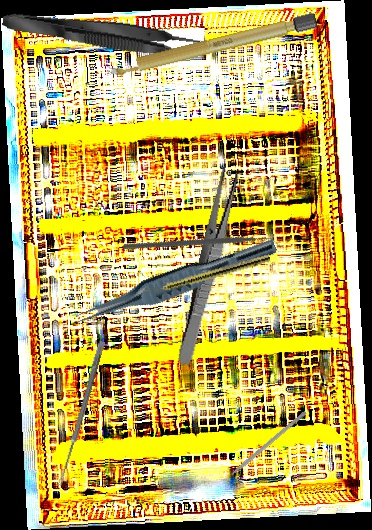Chopper: (121, 171, 283, 323), (214, 406, 308, 486)
Dressing Forceps: (175, 165, 243, 367)
Handpiece: (143, 252, 271, 298)
Scalpel Handle: (103, 10, 320, 81)
Surgical Spoon: (56, 340, 106, 487)
Tissue Forceps: (72, 226, 279, 337), (0, 4, 208, 64)
